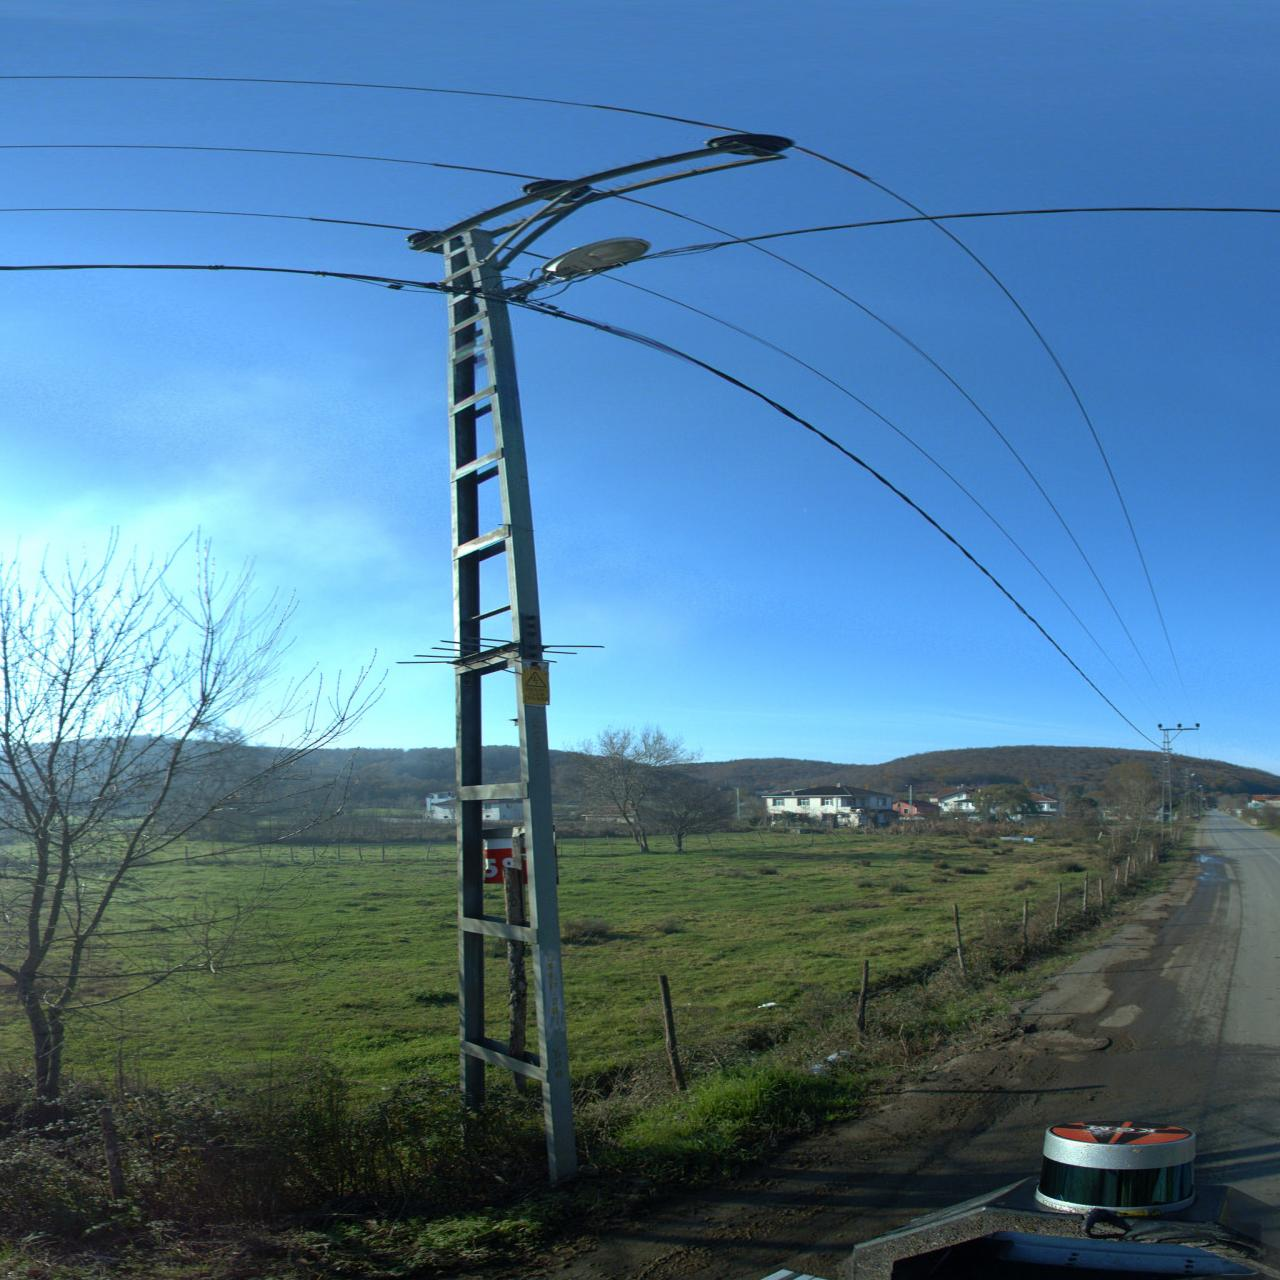Utility Pole Information Plate: (520, 662, 552, 706)
